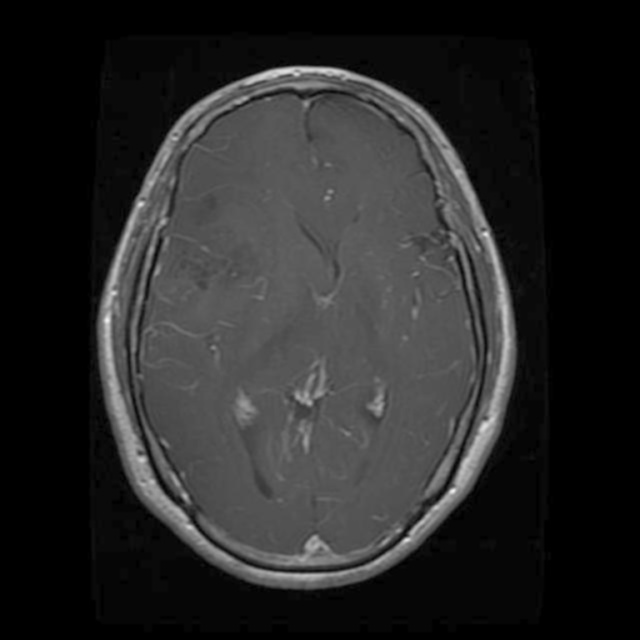pituitary tumor: (164, 225, 245, 290)
